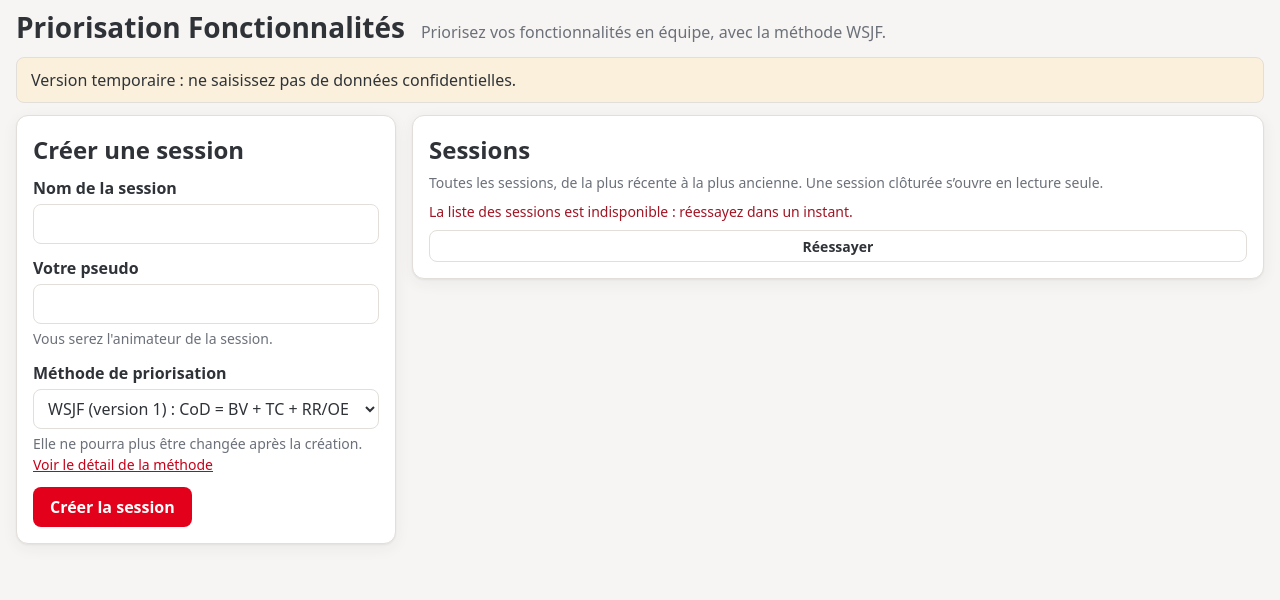
Test: HomeComponent › shows the French detail of a server refusal and keeps the form
The image size is (1280, 600).
Type "A" into the field with id "create-name". click: [206, 224]
box: [33,204,379,244]
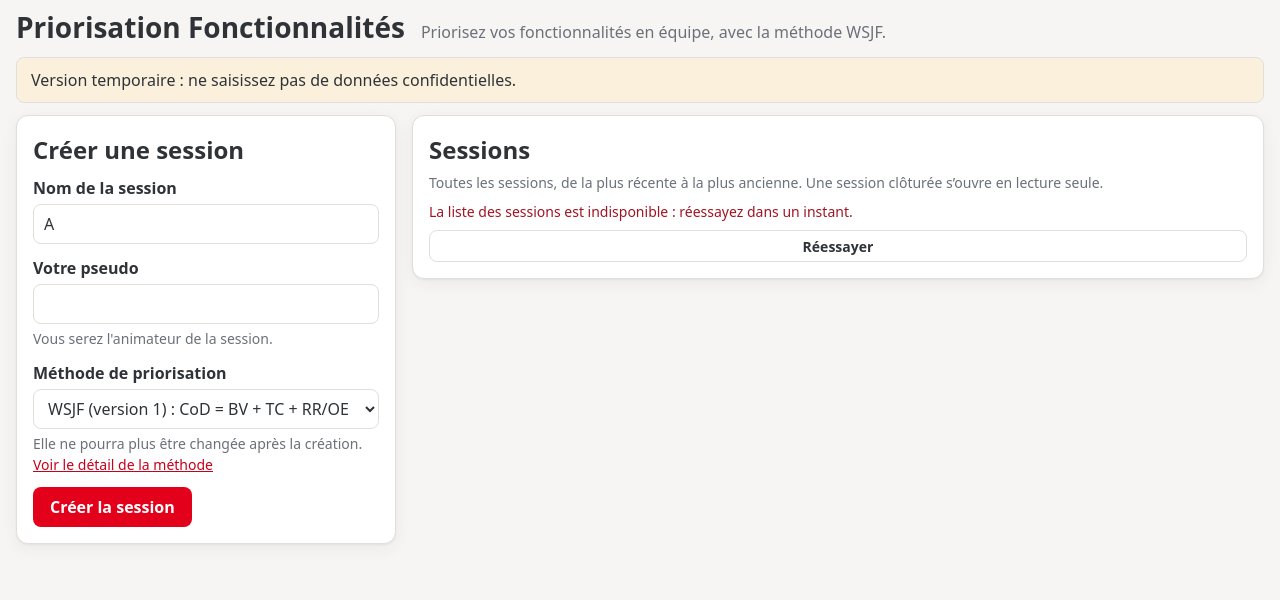
Type "Éric" into the field with id "create-pseudo". click: [206, 304]
box: [33,284,379,324]
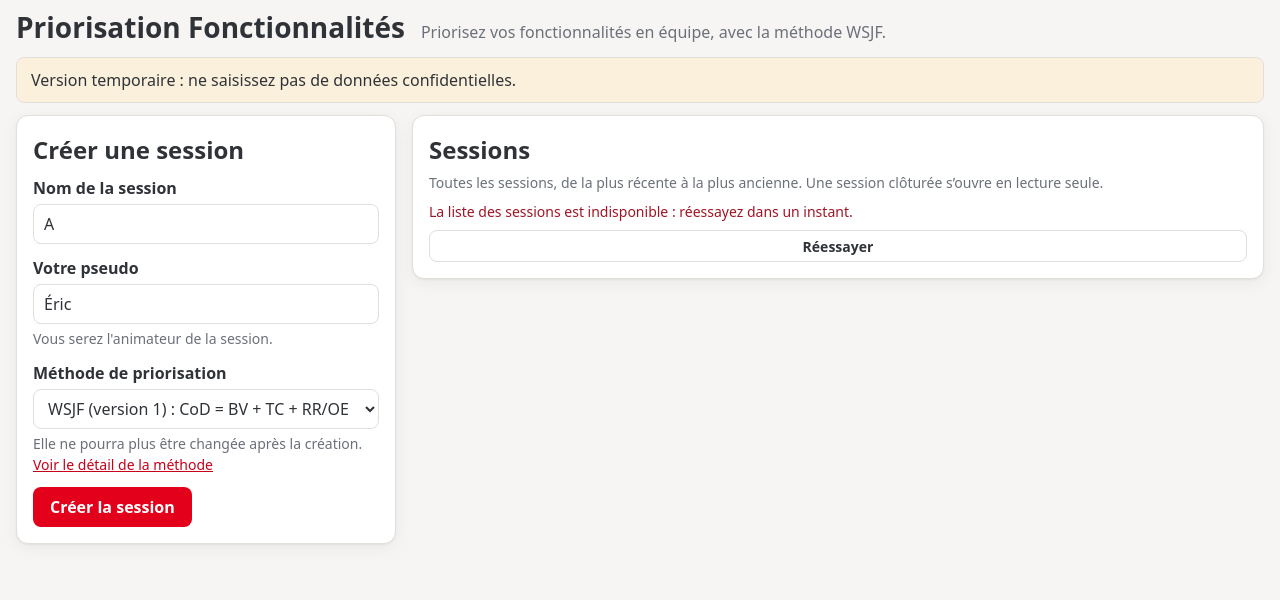
Submit the form, box [16,115,396,544]
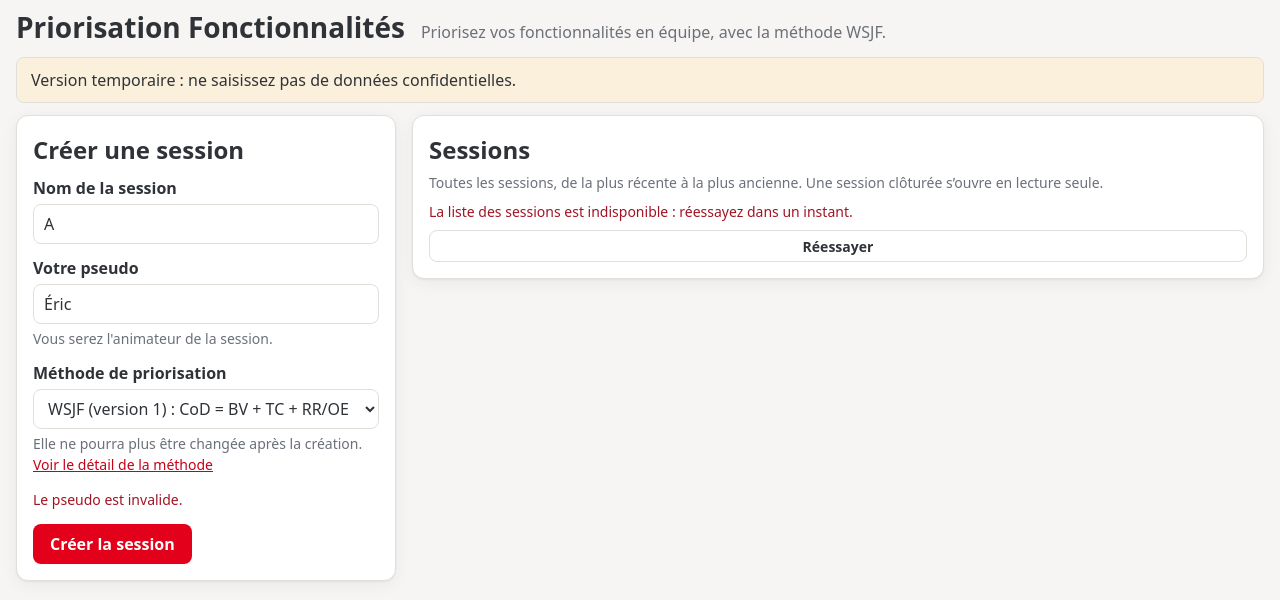
Expected: the form is shown, [16,115,396,581]
Now the message "Le pseudo est invalide." is shown, box [33,490,182,509]
